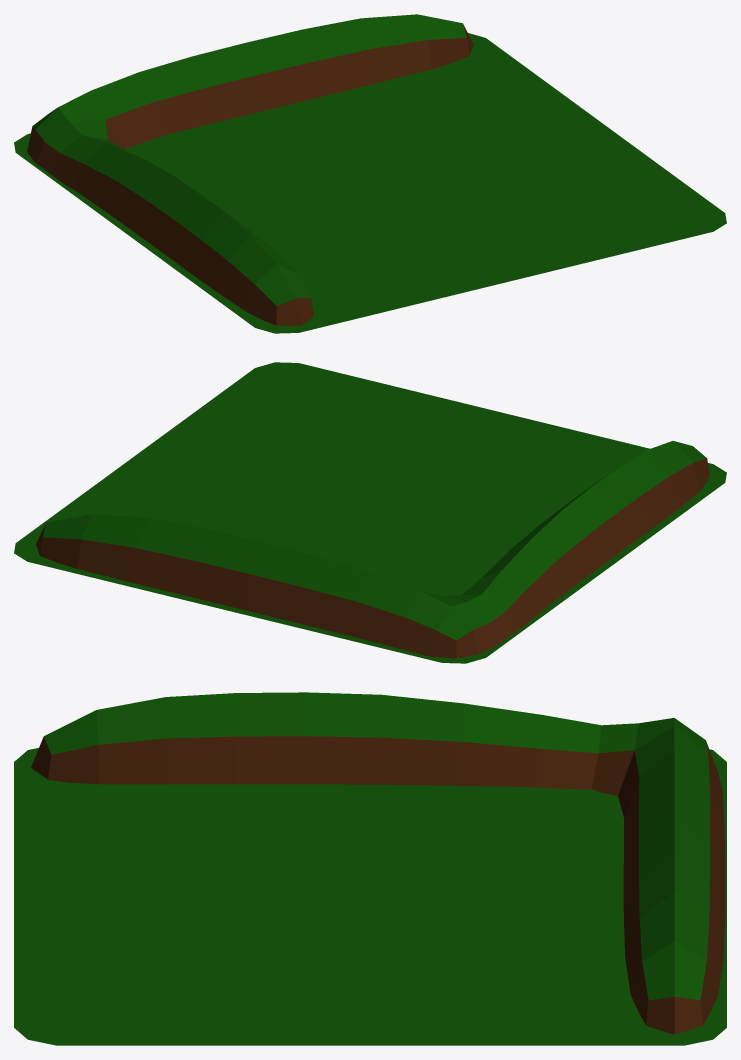
The model's file is 1andar.fbx.
3 renders of one model, top to bottom at view 1: azimuth 30°, elevation 25°; view 2: azimuth 150°, elevation 25°; view 3: azimuth 270°, elevation 25°, orthographic. The views are drawn at different scales.
Parts seen in each view (by area): view 1: 1Andar; view 2: 1Andar; view 3: 1Andar.
Part boxes in pixels (bbox=[...]): 1Andar: bbox=[14, 14, 726, 333]; 1Andar: bbox=[14, 362, 726, 663]; 1Andar: bbox=[14, 692, 726, 1045].
Size of the model in its own units: 1856 by 224 by 1856.
